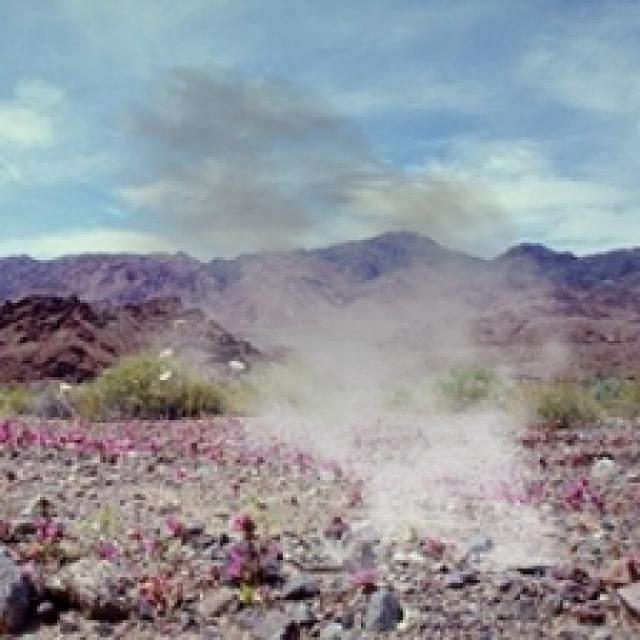smoke: (46, 57, 608, 589)
